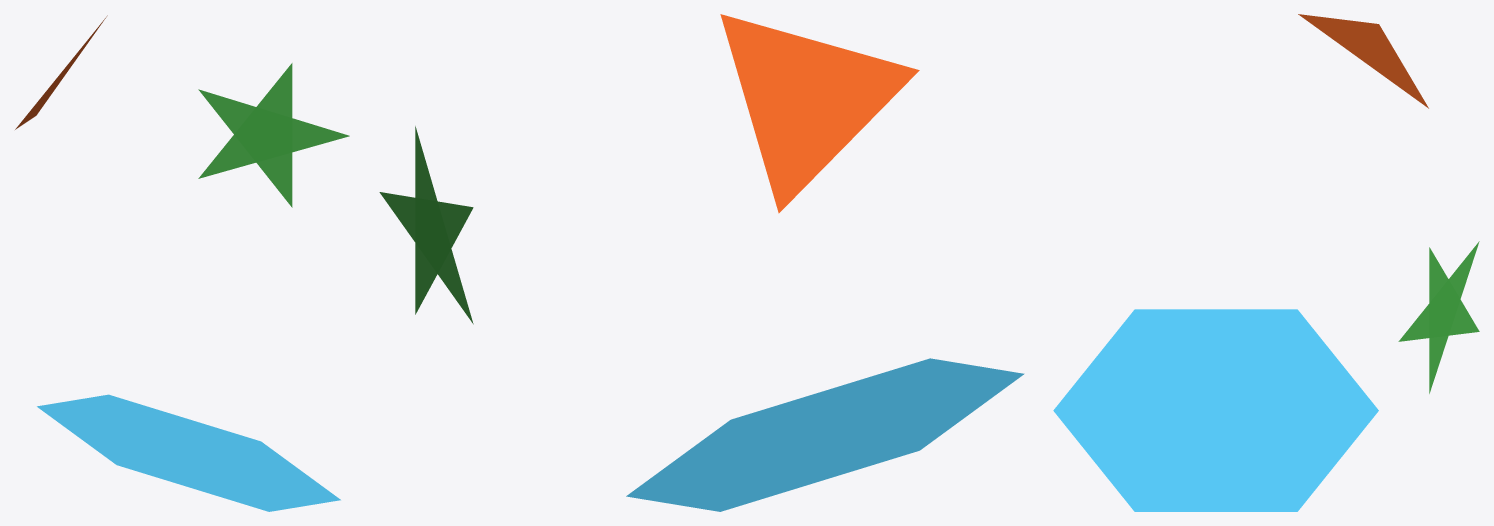
The model's file is SmallIcosicosidodecahedronF.obj.
3 views of the same model, side by side, from view 1: azimuth 30°, elevation 25°; view 2: azimuth 150°, elevation 25°; view 3: azimuth 270°, elevation 25° (orthographic). The views are drawn at different scales.
Bounding box in the file's own units: 2.62 × 2.93 × 2.62.
